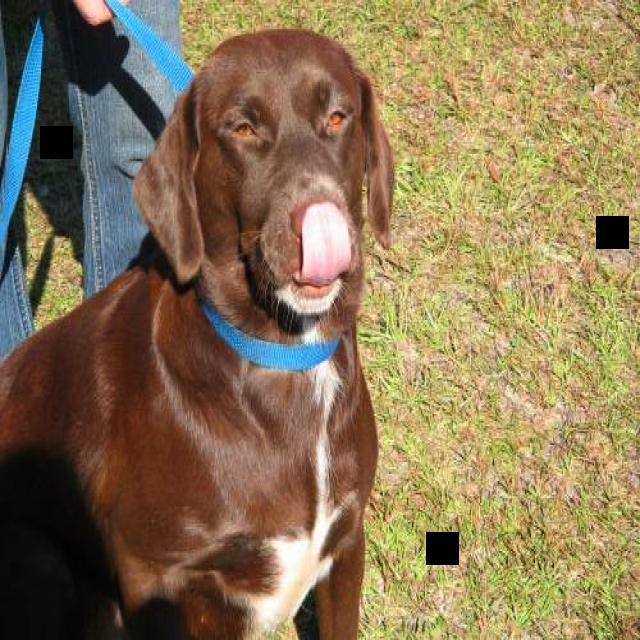adult_dog: (2, 27, 394, 640)
